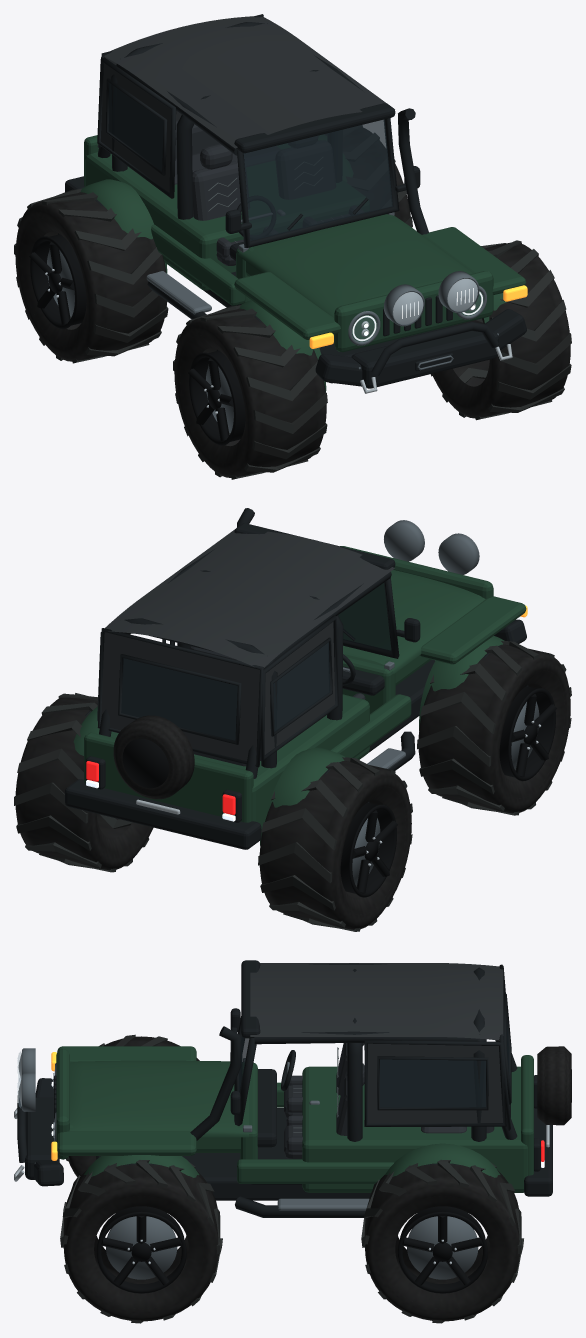
The model's file is garage-thar.glb.
3 renders of one model, top to bottom at view 1: azimuth 30°, elevation 25°; view 2: azimuth 150°, elevation 25°; view 3: azimuth 270°, elevation 25°, orthographic. The views are drawn at different scales.
Visible parts, largest first — view 1: BodyPaint, CanvasRoof, BlackTrim, TintedGlass, Tire.001, Tire.003, Tire.002, StitchedLeather, Tread, Tread.002, Tread.001, Alloy.001 (+10 smaller); view 2: CanvasRoof, BodyPaint, BlackTrim, Tire.003, Tire.001, TintedGlass.001, Tire.004, BlackTrim.001, BodyPaint boot, Tread.002, Tread, Tread.003 (+9 smaller); view 3: BodyPaint, CanvasRoof, BlackTrim, Tire.002, Tire.004, TintedGlass.001, BlackTrim.001, Alloy.002, Alloy.004, BodyPaint door_FR, StitchedLeather, Tire (+7 smaller).
Boxes of the visible parts, <box> form: BodyPaint: <box>80,134,526,392</box>; CanvasRoof: <box>100,16,386,192</box>; BlackTrim: <box>58,22,526,388</box>; TintedGlass: <box>243,119,392,241</box>; Tire.001: <box>174,308,326,477</box>; Tire.003: <box>15,192,167,361</box>; Tire.002: <box>432,242,570,418</box>; StitchedLeather: <box>174,120,363,265</box>; Tread: <box>173,305,327,479</box>; Tread.002: <box>14,189,168,363</box>; Tread.001: <box>430,240,571,420</box>; Alloy.001: <box>188,350,245,445</box>; CanvasRoof: <box>101,529,394,760</box>; BodyPaint: <box>73,546,526,845</box>; BlackTrim: <box>65,508,528,849</box>; Tire.003: <box>259,760,411,929</box>; Tire.001: <box>418,644,570,813</box>; TintedGlass.001: <box>121,642,330,740</box>; Tire.004: <box>15,694,153,870</box>; BlackTrim.001: <box>97,615,338,767</box>; BodyPaint boot: <box>84,732,253,822</box>; Tread.002: <box>258,757,412,931</box>; Tread: <box>417,640,571,815</box>; Tread.003: <box>14,693,149,872</box>; BodyPaint: <box>56,1046,527,1192</box>; CanvasRoof: <box>250,963,503,1123</box>; BlackTrim: <box>17,960,552,1217</box>; Tire.002: <box>63,1164,218,1321</box>; Tire.004: <box>364,1164,519,1321</box>; TintedGlass.001: <box>380,1024,509,1107</box>; BlackTrim.001: <box>364,964,511,1130</box>; Alloy.002: <box>96,1206,186,1293</box>; Alloy.004: <box>397,1206,487,1293</box>; BodyPaint door_FR: <box>237,1159,393,1183</box>; StitchedLeather: <box>284,1043,494,1159</box>; Tire: <box>537,1046,571,1125</box>.
Size of the model in its own units: 2.86 by 2.31 by 4.45.
Materials: 15 (1 with a texture image).
